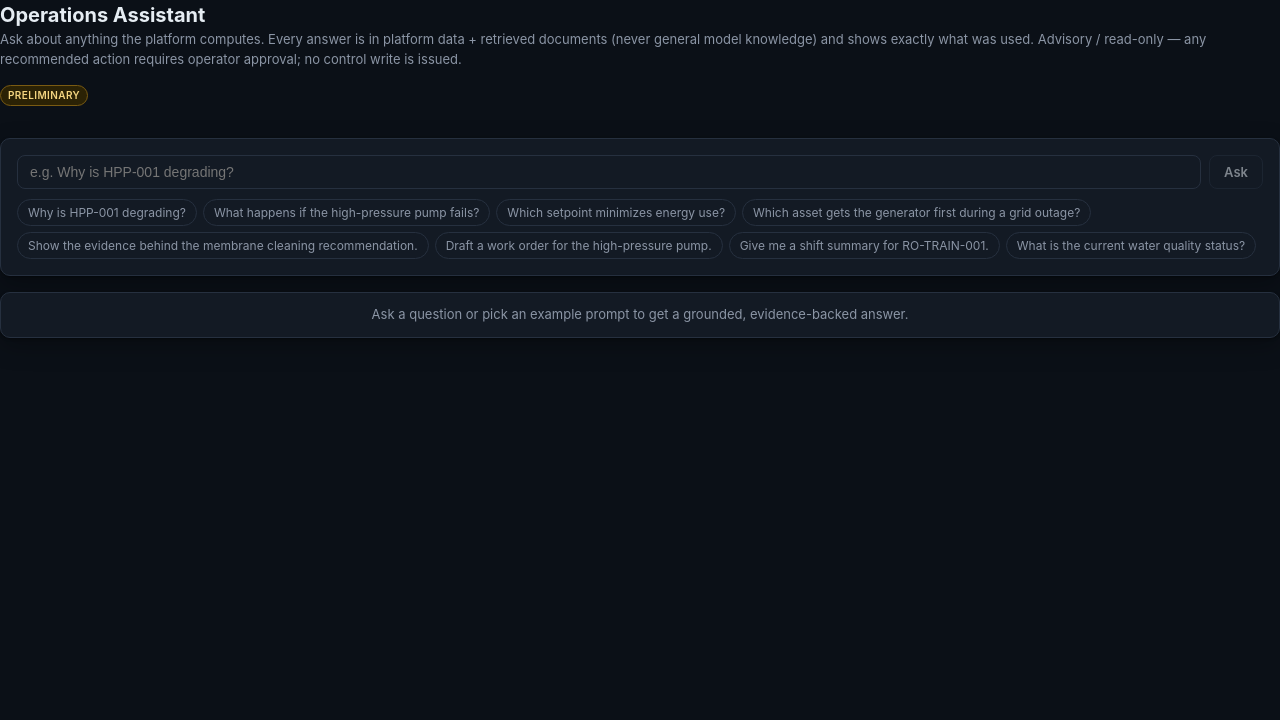
Test: OperationsAssistant › asks a question and renders the answer with its full evidence block
Click the button with test id "example-explain_degradation" at (107, 212), box [17, 199, 197, 226]
(page scrolled)
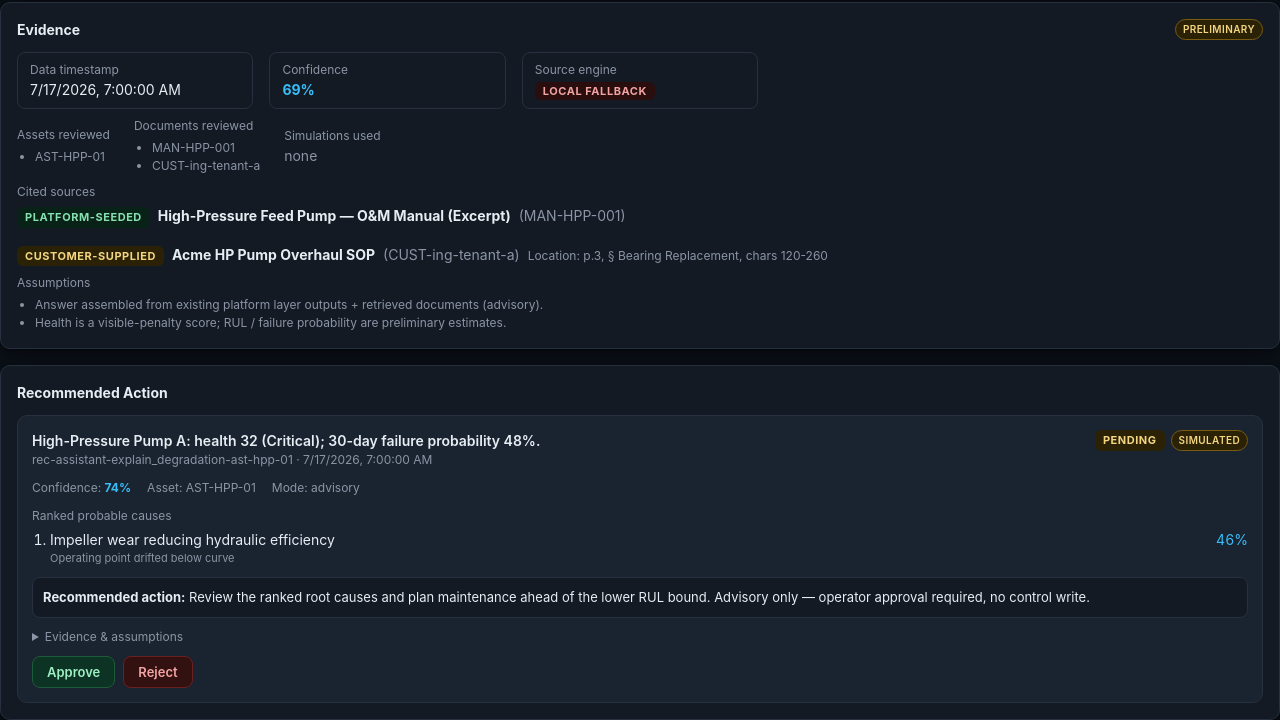
Now the element with test id "assistant-evidence" is shown, box [0, 2, 1279, 349]
Now the element with test id "evidence-data-timestamp" is shown, box [17, 52, 253, 109]
Now the element with test id "evidence-confidence" is shown, box [269, 52, 506, 109]
